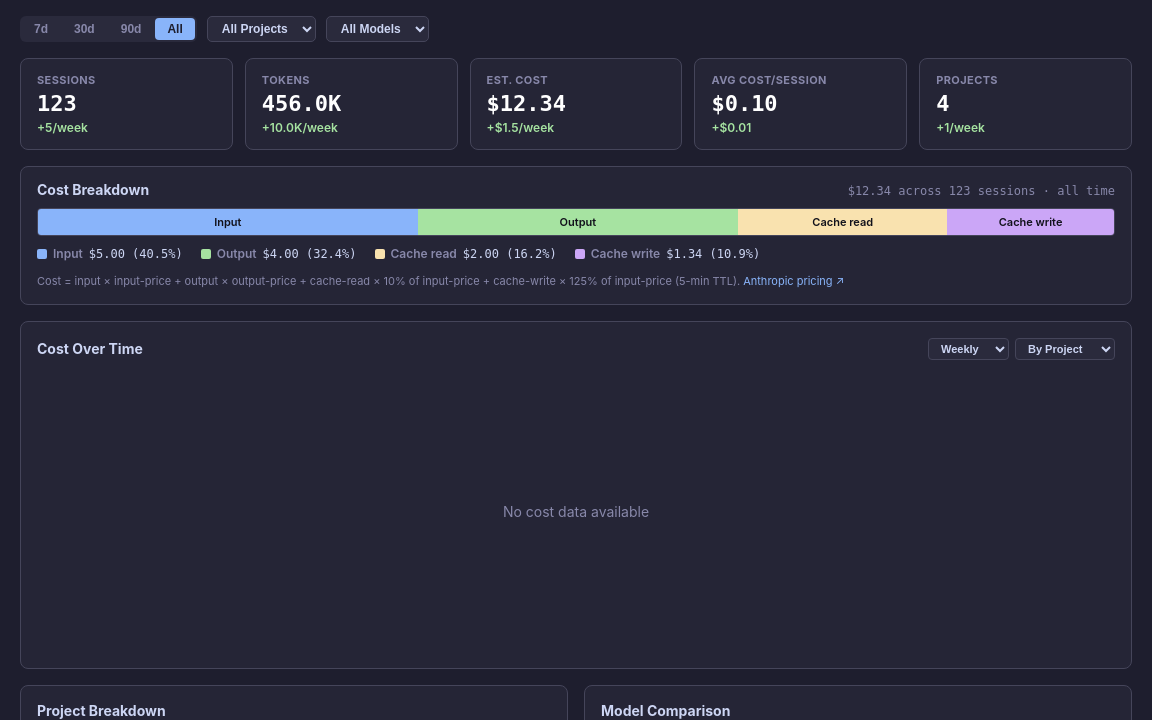
Scenario: Dashboard — filter dropdowns + clear button › Clear Filters button appears only when a filter is set
Expected: the button "Clear Filters" is not shown
Step 1. Select "proj-a" in the 1st dropdown showing "All Projects" → (261, 29), box x1=207 y1=16 x2=316 y2=42
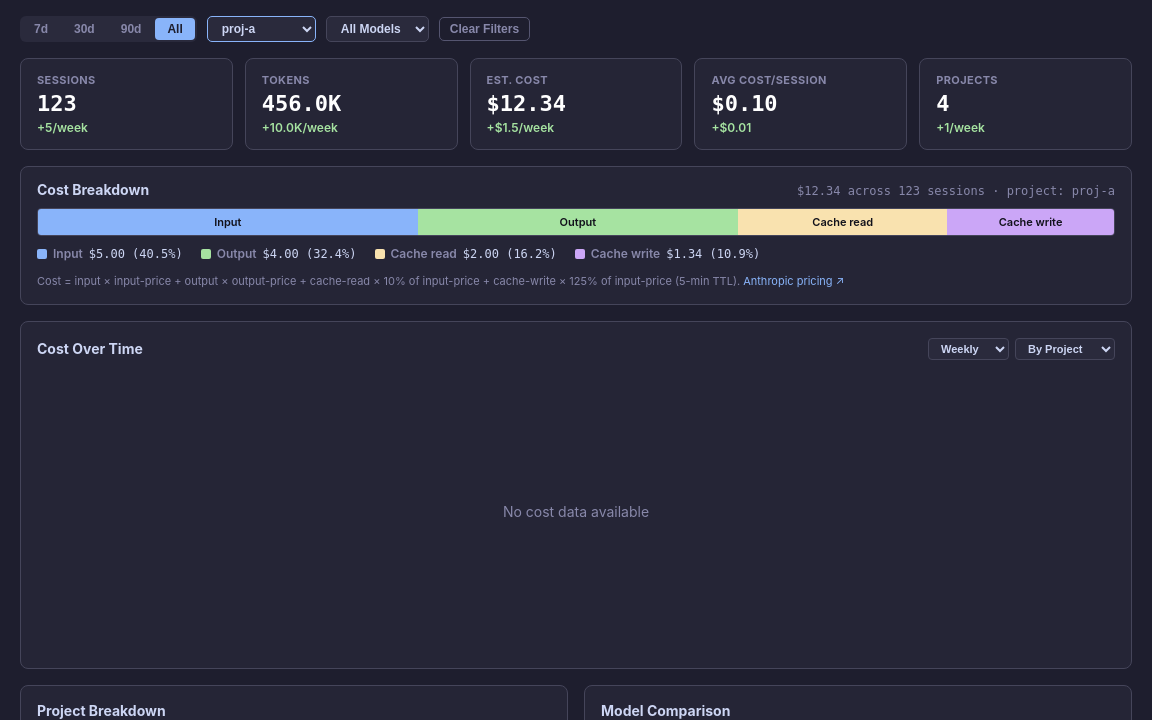
Expected: the button "Clear Filters" is shown, x1=439 y1=17 x2=530 y2=41
